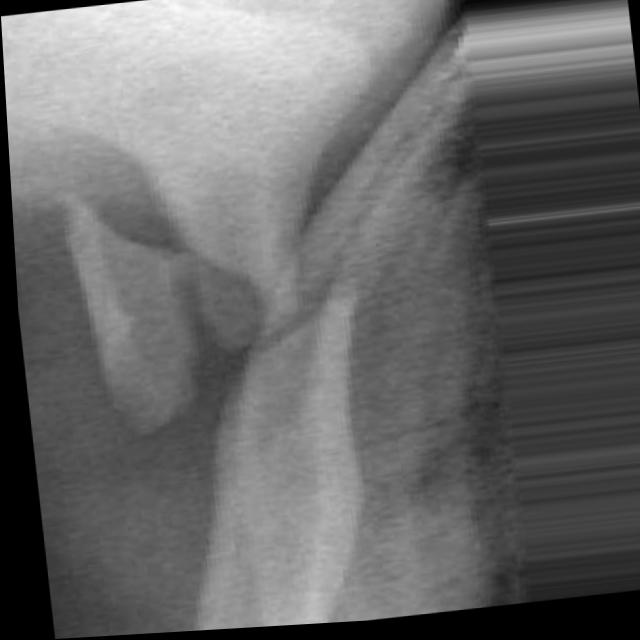fracture: (200, 265, 376, 366)
